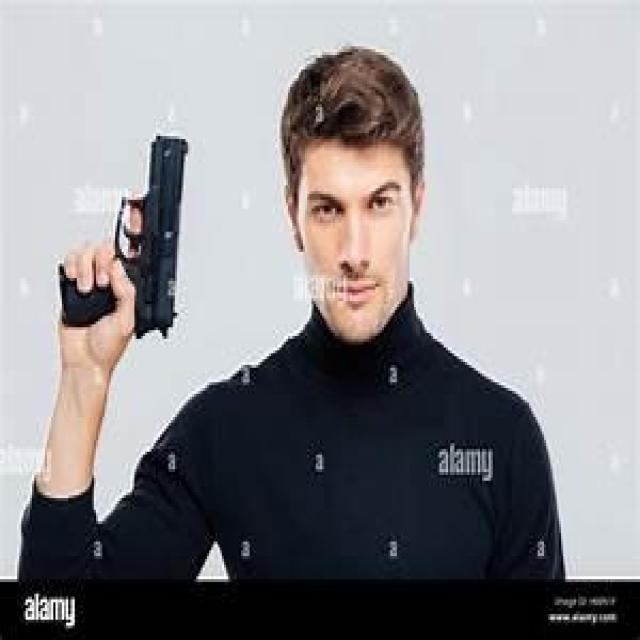Handgun: (48, 111, 193, 358)
